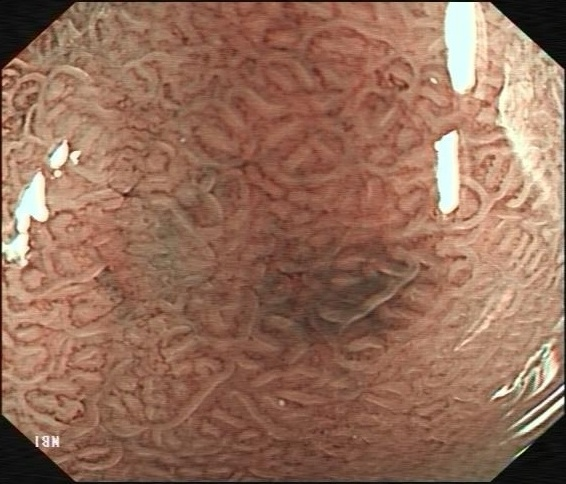NONNEO: (57, 24, 466, 421)
